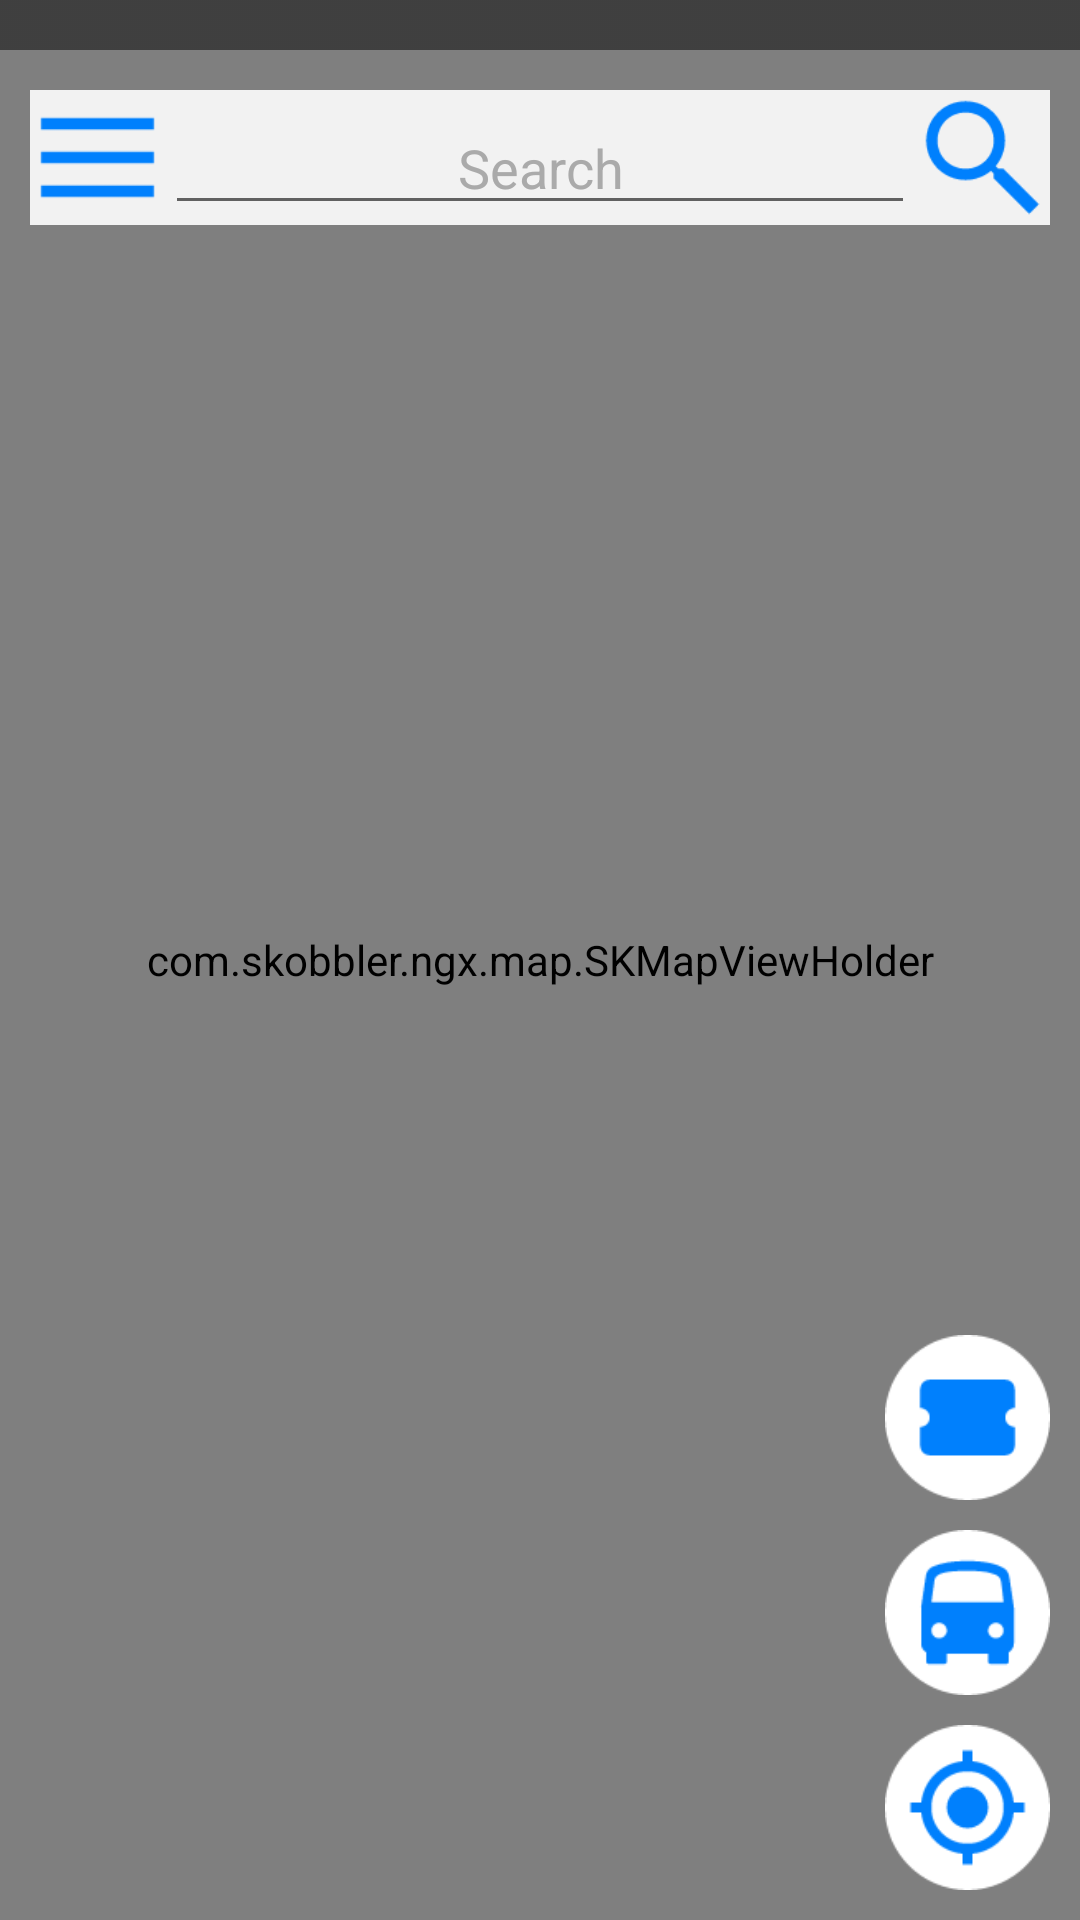

Icons on this 1080px×1920px Android screen, each with the point to tap as point (x, y):
menu: point (97, 157)
